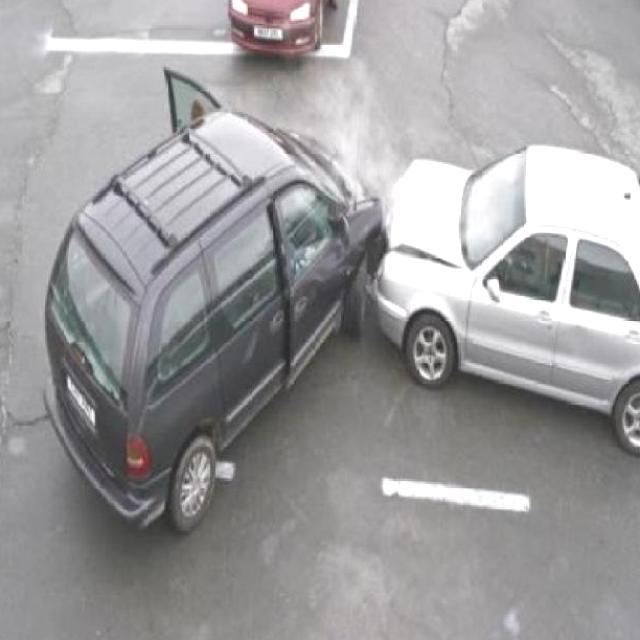accident: (45, 67, 640, 534)
